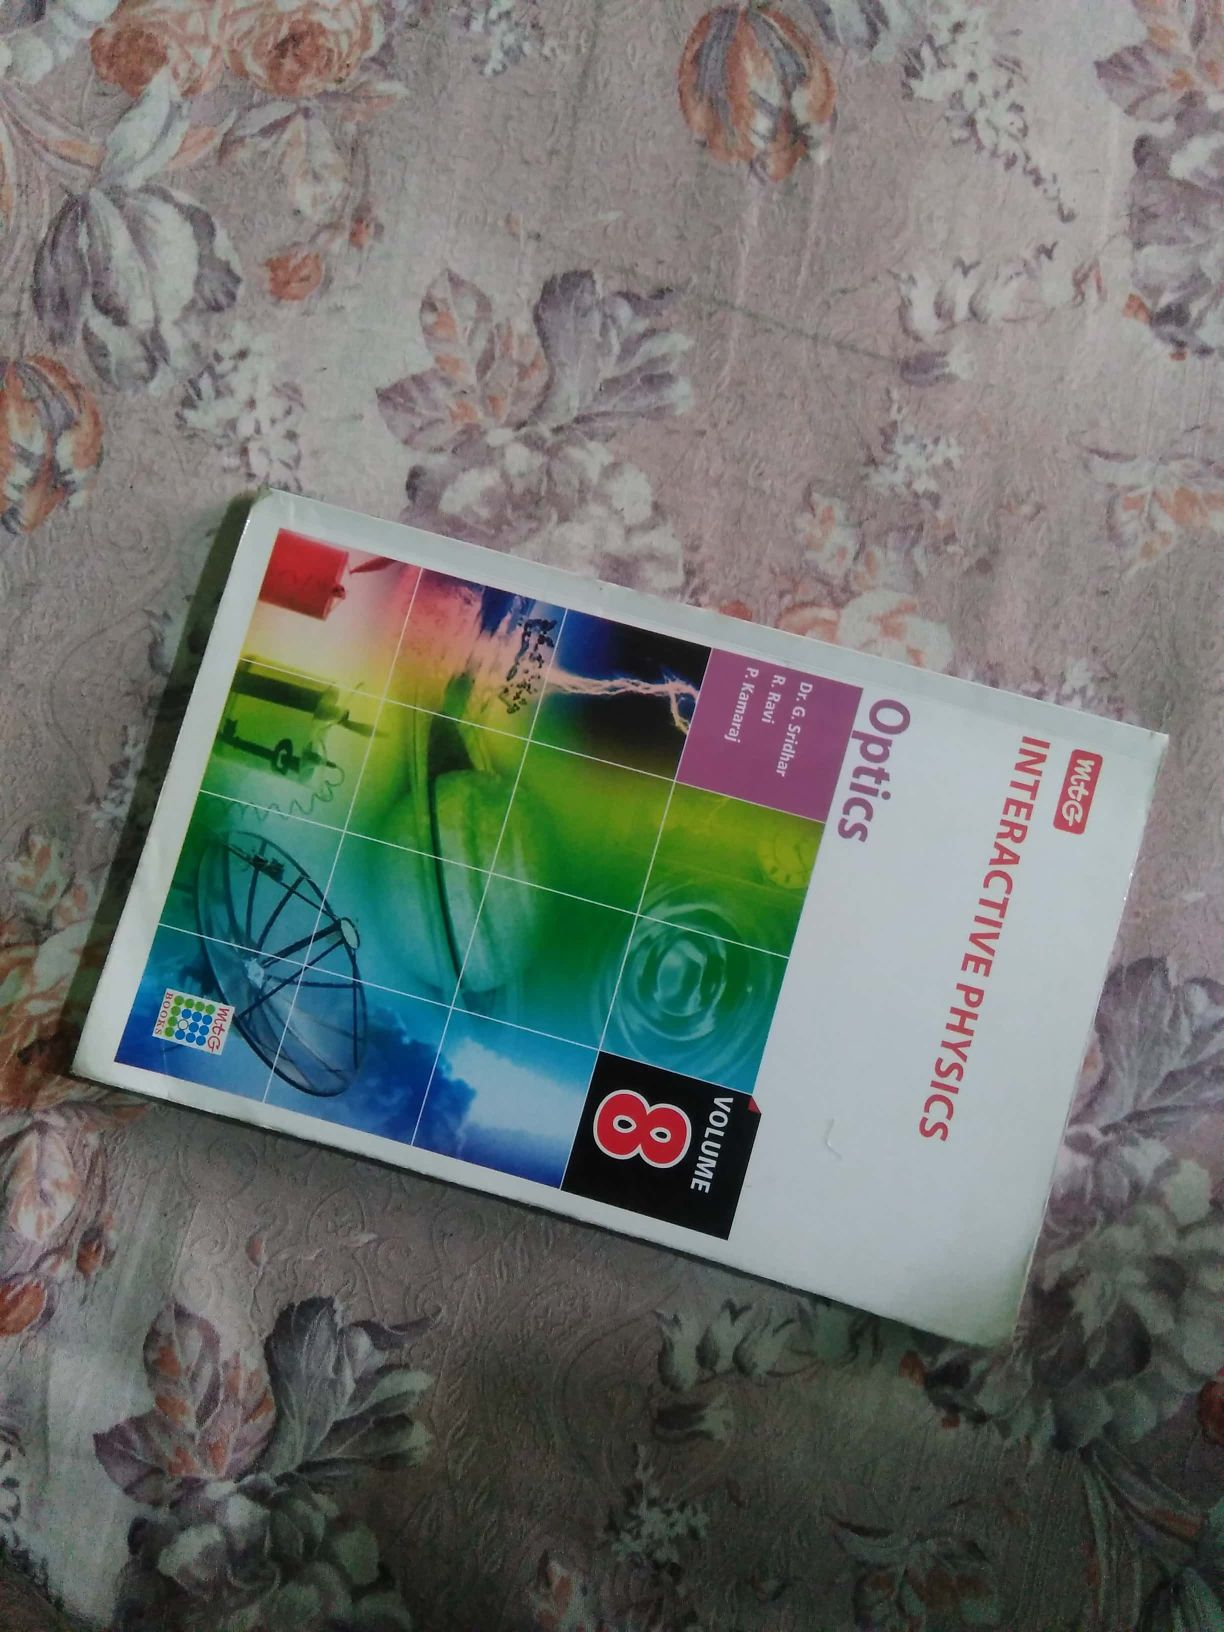optics: (93, 466, 1178, 1356)
